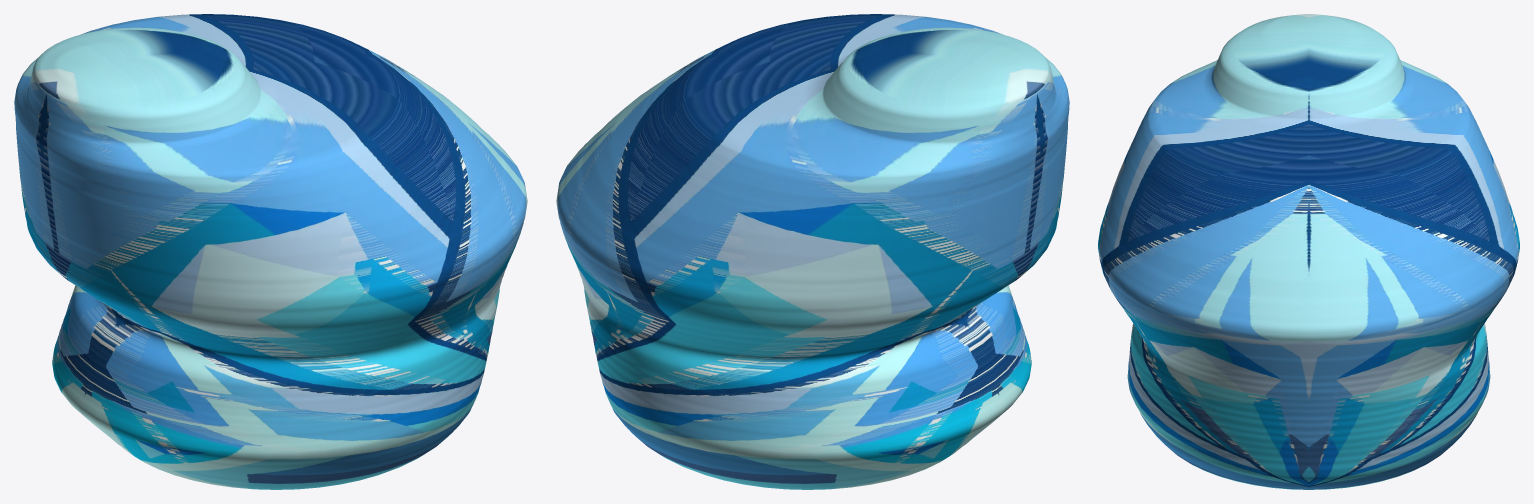
Rendered from spear_crystals.glb.
The picture shows the model from 3 angles, left to right: view 1: azimuth 30°, elevation 25°; view 2: azimuth 150°, elevation 25°; view 3: azimuth 270°, elevation 25°; orthographic projection. The views are drawn at different scales.
Parts seen in each view (by area): view 1: spear_crystals; view 2: spear_crystals; view 3: spear_crystals.
Part boxes in pixels (left/top/right/bottom): spear_crystals: left=14, top=14, right=527, bottom=489; spear_crystals: left=556, top=14, right=1069, bottom=489; spear_crystals: left=1098, top=14, right=1519, bottom=489.
Size of the model in its own units: 0.9968 by 0.8614 by 0.9617.
1 material, 1 textured.
